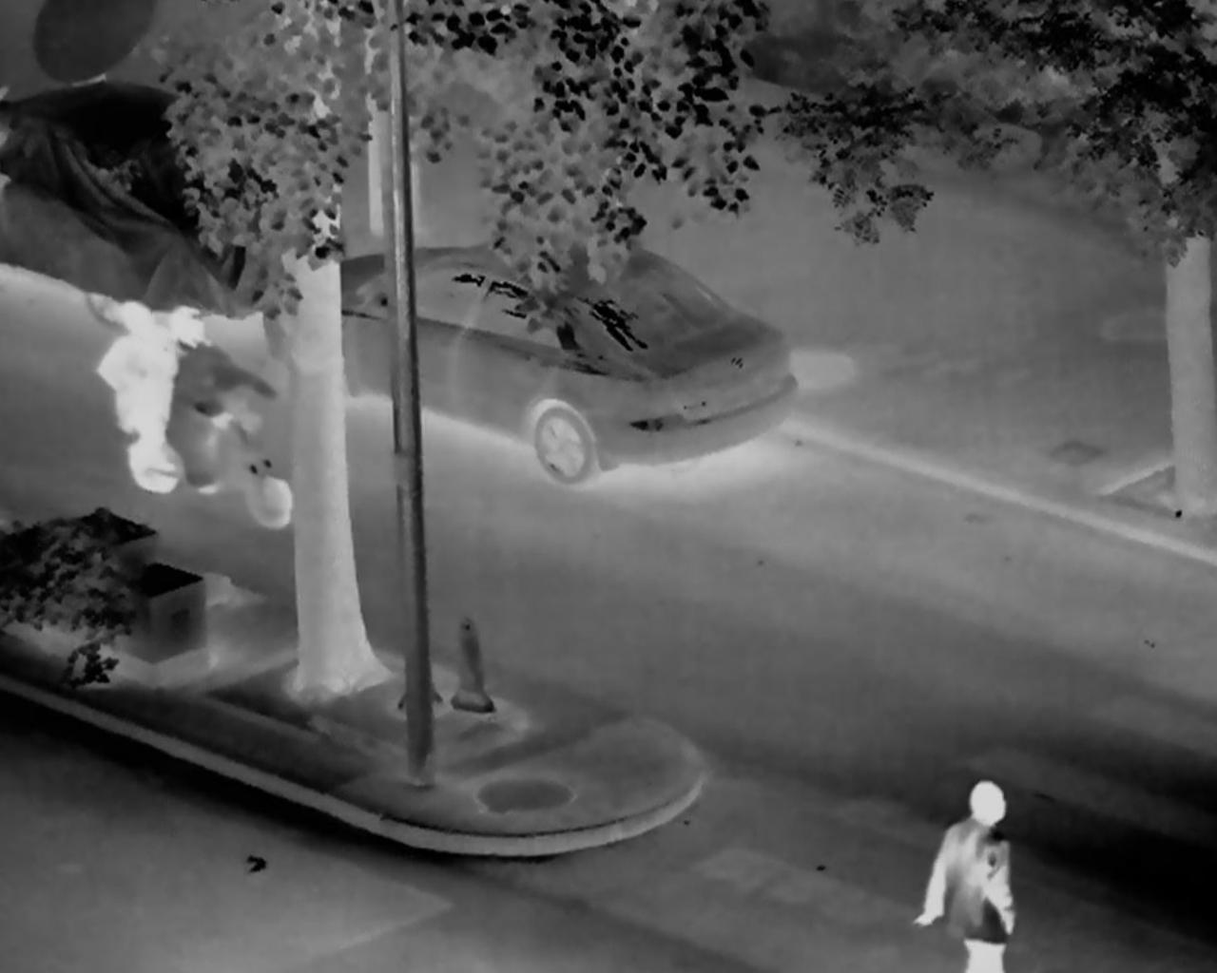person: (917, 779, 1021, 973), (95, 300, 181, 490), (156, 306, 217, 490)
